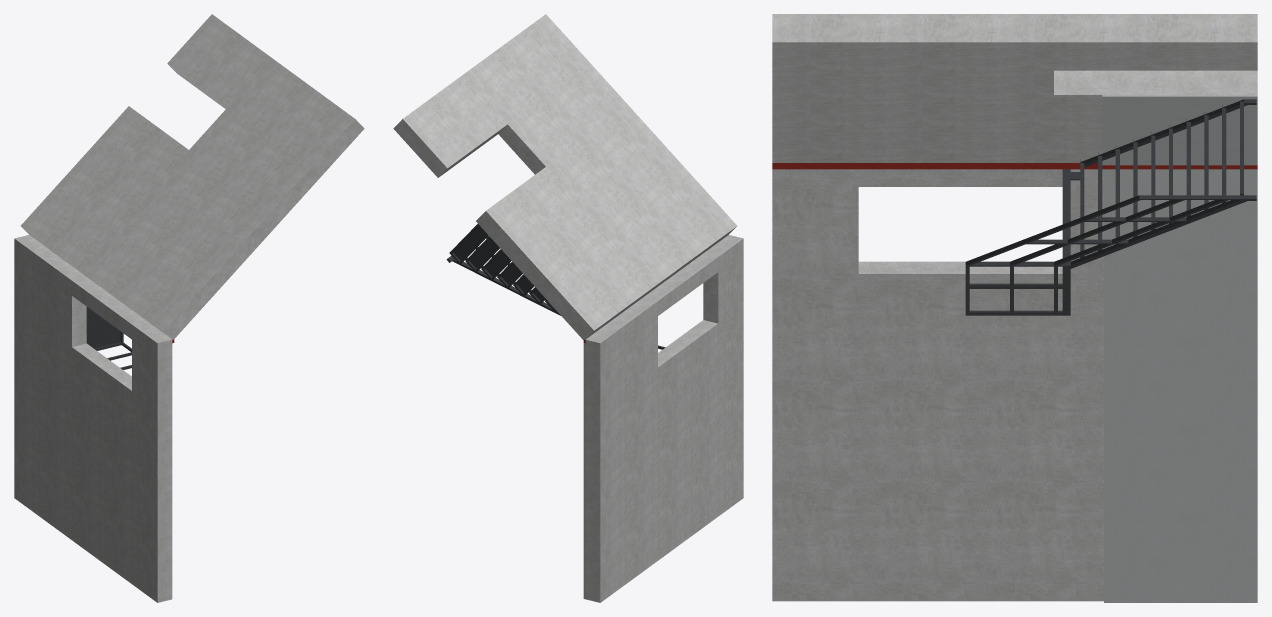
Rendered from escalera-falsa-escuadra-olaso-mwvv6gcz.glb.
The picture shows the model from 3 angles, left to right: view 1: azimuth 30°, elevation 25°; view 2: azimuth 150°, elevation 25°; view 3: azimuth 270°, elevation 25°; orthographic projection. The views are drawn at different scales.
Visible parts, largest first — view 1: Body3, Body1, CHAPA_RELLANO; view 2: Body3, Body1, Body90, Body7; view 3: Body1, Body7, Body3, Body5, barandilla_(1), Body90, Body2, rellano.
Part boxes in pixels (bbox=[...]): Body3: bbox=[21, 14, 364, 339]; Body1: bbox=[14, 235, 172, 602]; CHAPA_RELLANO: bbox=[86, 307, 120, 348]; Body3: bbox=[393, 14, 736, 339]; Body1: bbox=[585, 235, 743, 602]; Body90: bbox=[446, 224, 560, 315]; Body7: bbox=[583, 343, 585, 599]; Body1: bbox=[772, 169, 1103, 601]; Body7: bbox=[1104, 169, 1257, 602]; Body3: bbox=[772, 14, 1257, 162]; Body5: bbox=[1102, 95, 1257, 165]; barandilla_(1): bbox=[965, 195, 1243, 315]; Body90: bbox=[1070, 99, 1256, 268]; Body2: bbox=[772, 163, 1257, 169]; rellano: bbox=[1063, 169, 1070, 315].
Bounding box in the file's own units: 4.17 × 8.39 × 5.
4 materials, 4 textured.
